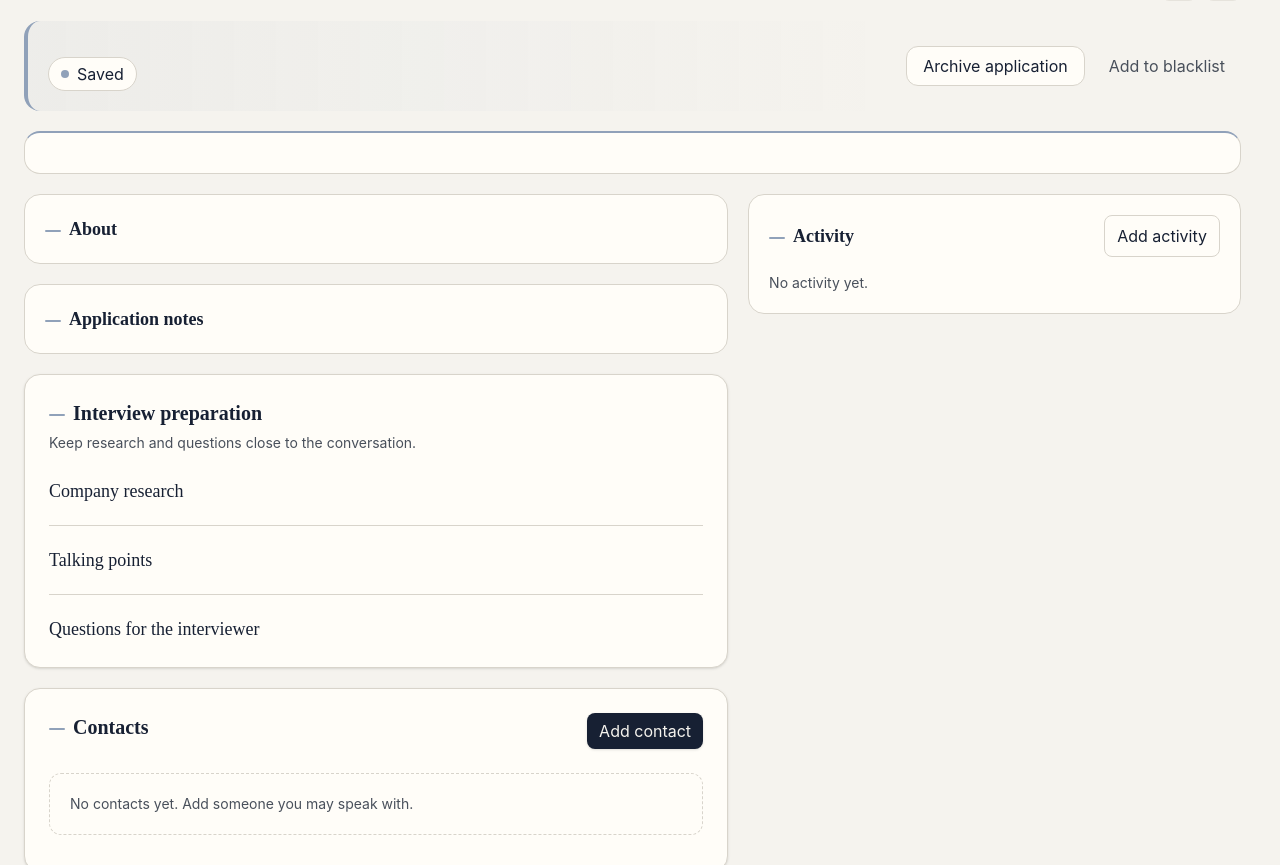
Scenario: keeps Add contact drafts read-only and cancellable after disconnection
Click the button "Add contact": (645, 731) left=587, top=713, right=703, bottom=749
(page scrolled)
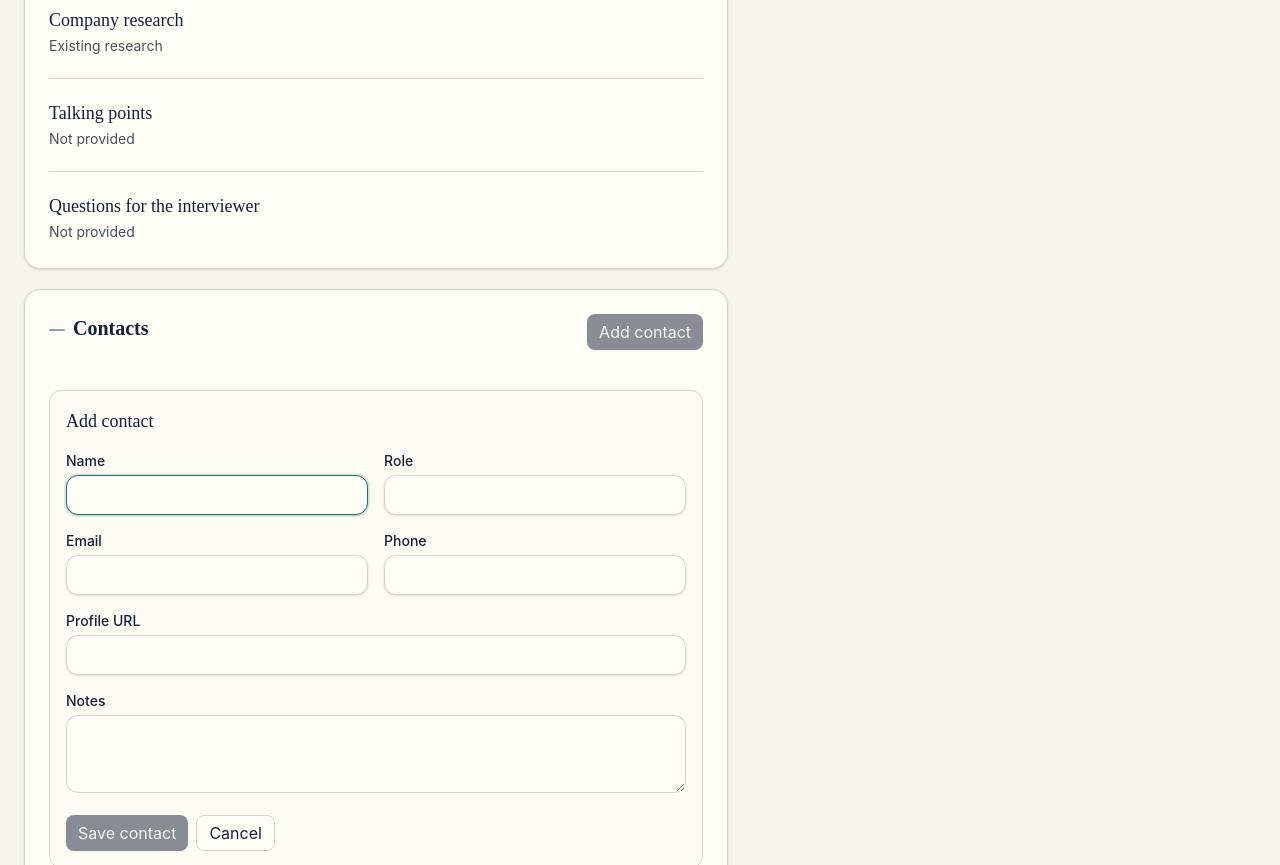
Expected: the button "Save contact" is disabled, left=66, top=815, right=188, bottom=851
Expected: the button "Cancel" is enabled
Click the button "Cancel": (236, 833) left=196, top=815, right=275, bottom=851
(page scrolled)
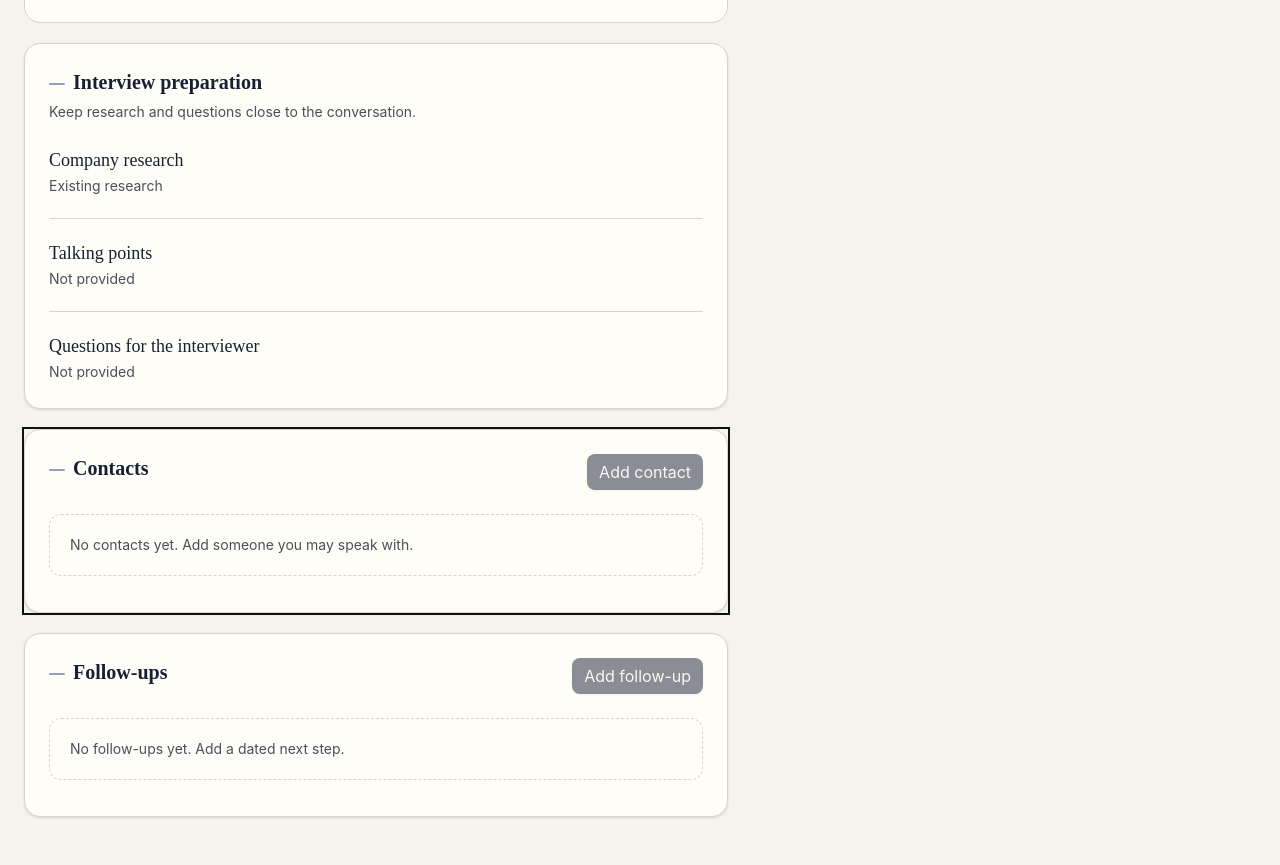
Expected: the label "Name" is gone
